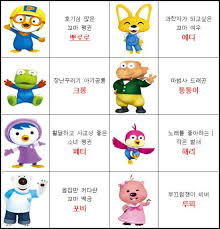Harry: (112, 122, 155, 168)
Loopy: (114, 173, 153, 226)
Petty: (4, 118, 46, 171)
Pororo: (3, 5, 47, 54)
